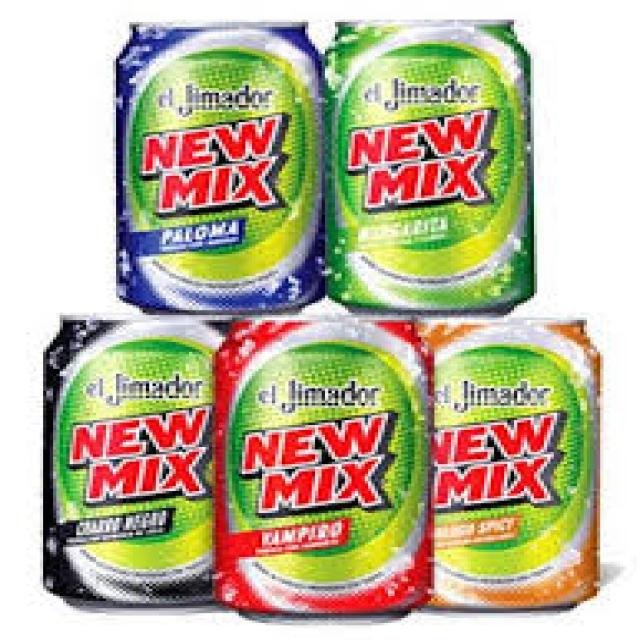Cans: (205, 315, 438, 625), (102, 8, 332, 318), (318, 15, 550, 318), (441, 310, 620, 616), (43, 312, 219, 610)
